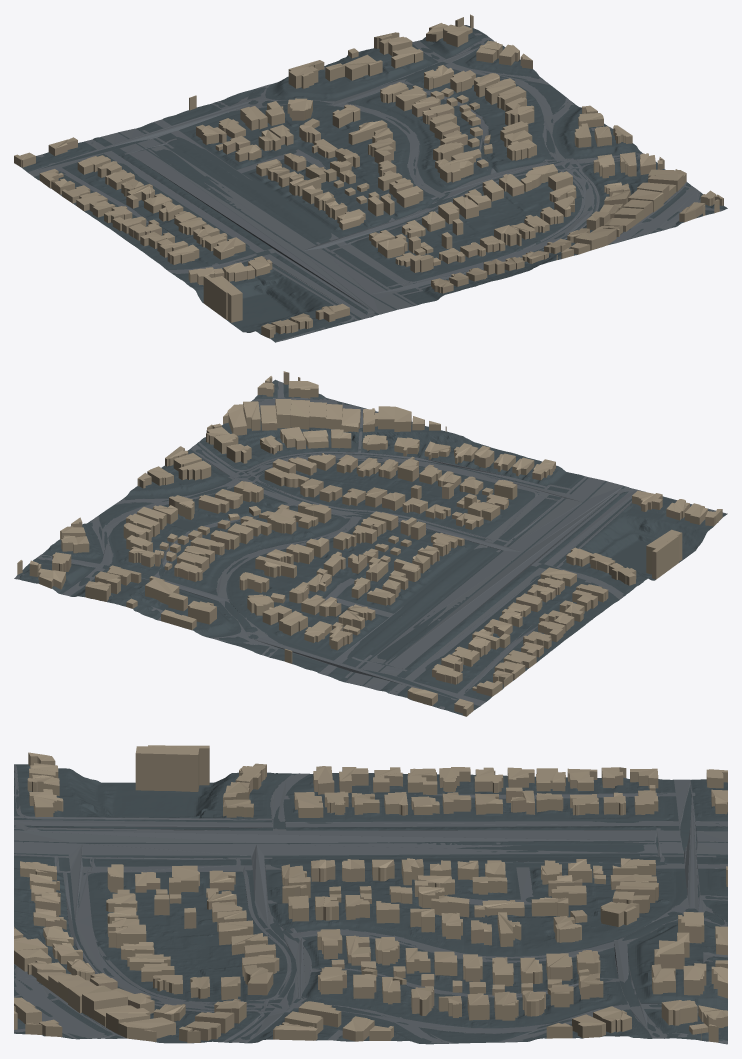
File: epsg26910-1423-10874.lod0.glb
3 renders of one model, top to bottom at view 1: azimuth 30°, elevation 25°; view 2: azimuth 150°, elevation 25°; view 3: azimuth 270°, elevation 25°, orthographic. The views are drawn at different scales.
Parts seen in each view (by area): view 1: epsg26910-1423-10874-lod0; view 2: epsg26910-1423-10874-lod0; view 3: epsg26910-1423-10874-lod0.
Boxes of the visible parts, x1=… form: epsg26910-1423-10874-lod0: x1=14, y1=14, x2=727, y2=342; epsg26910-1423-10874-lod0: x1=14, y1=371, x2=727, y2=716; epsg26910-1423-10874-lod0: x1=14, y1=745, x2=727, y2=1044.
Bounding box in the file's own units: 384 × 38.68 × 384.
